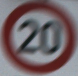20 km speed: (1, 1, 78, 75)
